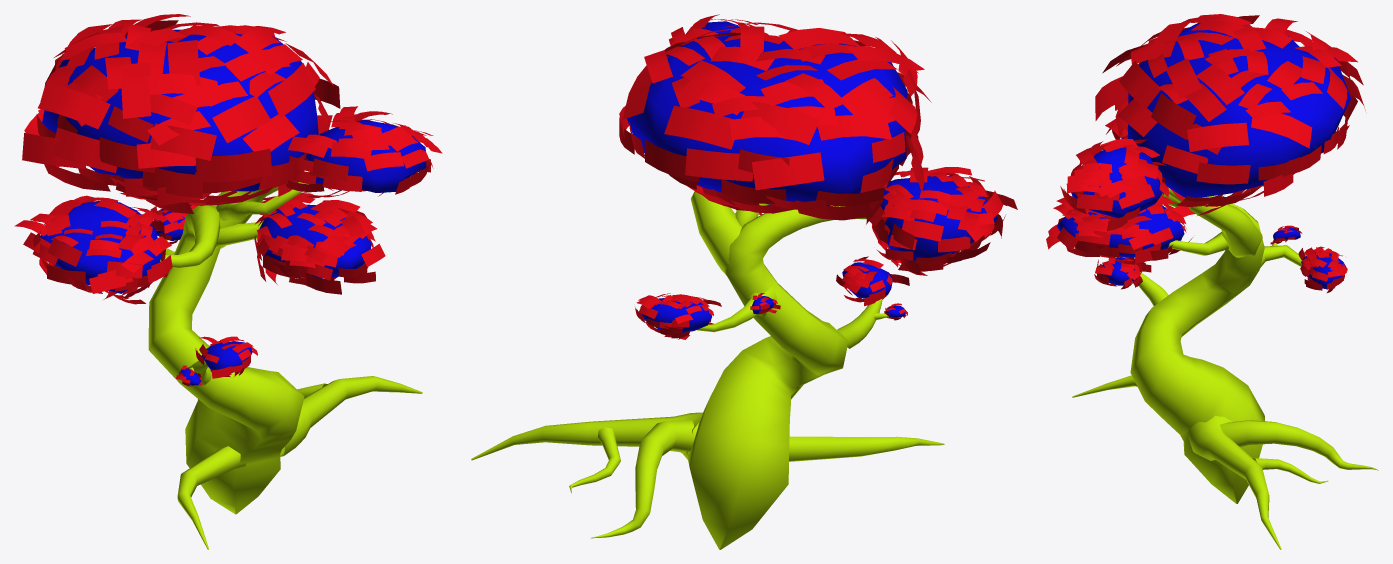
Rendered from Arbre_Low_City_2.fbx.
3 renders of one model, left to right at view 1: azimuth 30°, elevation 25°; view 2: azimuth 150°, elevation 25°; view 3: azimuth 270°, elevation 25°, orthographic. The views are drawn at different scales.
Visible parts, largest first — view 1: Plane.512, BezierCurve.012, Sphere.004, Sphere.009, BezierCurve.023, Sphere.008, Sphere.010, BezierCurve.017, BezierCurve.015, Sphere.011, BezierCurve.014, BezierCurve.013; view 2: Plane.512, BezierCurve.012, Sphere.004, BezierCurve.023, BezierCurve.022, BezierCurve.017, Sphere.009, BezierCurve.013, Sphere.014, BezierCurve.021, BezierCurve.016, BezierCurve.019 (+1 smaller); view 3: Plane.512, BezierCurve.012, Sphere.004, BezierCurve.023, BezierCurve.022, BezierCurve.013, Sphere.008, Sphere.010, BezierCurve.014, BezierCurve.021, BezierCurve.019, BezierCurve.016 (+2 smaller).
Boxes of the visible parts, x1=… form: Plane.512: x1=14, y1=14, x2=442, y2=386; BezierCurve.012: x1=148, y1=205, x2=304, y2=514; Sphere.004: x1=42, y1=29, x2=318, y2=191; Sphere.009: x1=40, y1=202, x2=160, y2=293; BezierCurve.023: x1=280, y1=376, x2=422, y2=456; Sphere.008: x1=308, y1=120, x2=426, y2=192; Sphere.010: x1=259, y1=204, x2=371, y2=278; BezierCurve.017: x1=177, y1=446, x2=245, y2=549; BezierCurve.015: x1=215, y1=171, x2=309, y2=221; Sphere.011: x1=201, y1=341, x2=252, y2=372; BezierCurve.014: x1=217, y1=221, x2=262, y2=246; BezierCurve.013: x1=210, y1=186, x2=278, y2=248; Plane.512: x1=619, y1=14, x2=1017, y2=339; BezierCurve.012: x1=687, y1=205, x2=866, y2=549; Sphere.004: x1=627, y1=34, x2=907, y2=206; BezierCurve.023: x1=471, y1=412, x2=702, y2=460; BezierCurve.022: x1=591, y1=420, x2=699, y2=538; BezierCurve.017: x1=789, y1=436, x2=944, y2=461; Sphere.009: x1=880, y1=175, x2=997, y2=261; BezierCurve.013: x1=691, y1=191, x2=741, y2=275; Sphere.014: x1=642, y1=298, x2=711, y2=332; BezierCurve.021: x1=569, y1=427, x2=620, y2=493; BezierCurve.016: x1=837, y1=298, x2=882, y2=348; BezierCurve.019: x1=696, y1=287, x2=777, y2=332; Plane.512: x1=1046, y1=14, x2=1365, y2=292; BezierCurve.012: x1=1130, y1=193, x2=1264, y2=503; Sphere.004: x1=1127, y1=23, x2=1351, y2=197; BezierCurve.023: x1=1187, y1=415, x2=1281, y2=549; BezierCurve.022: x1=1220, y1=420, x2=1378, y2=470; BezierCurve.013: x1=1184, y1=197, x2=1262, y2=257; Sphere.008: x1=1071, y1=147, x2=1162, y2=218; Sphere.010: x1=1057, y1=205, x2=1184, y2=257; BezierCurve.014: x1=1168, y1=232, x2=1228, y2=255; BezierCurve.021: x1=1252, y1=458, x2=1328, y2=483; BezierCurve.019: x1=1256, y1=245, x2=1301, y2=273; BezierCurve.016: x1=1139, y1=272, x2=1168, y2=305.
Size of the model in its own units: 4.42 by 4.71 by 3.24.
